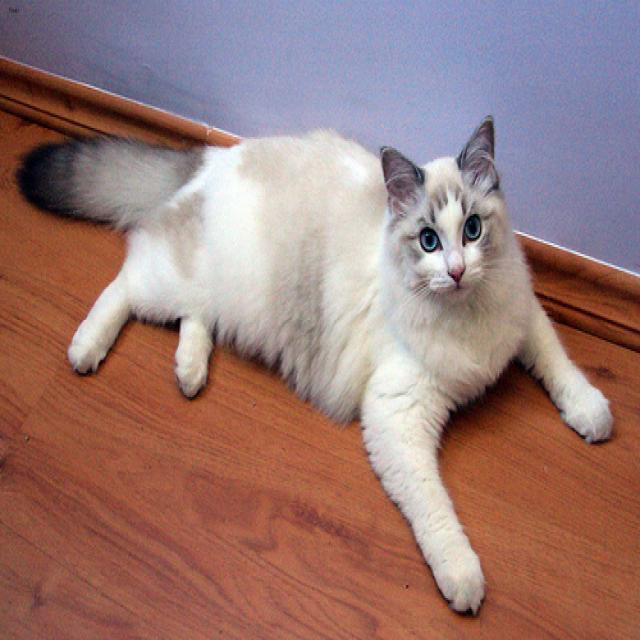cat: (379, 111, 502, 300)
